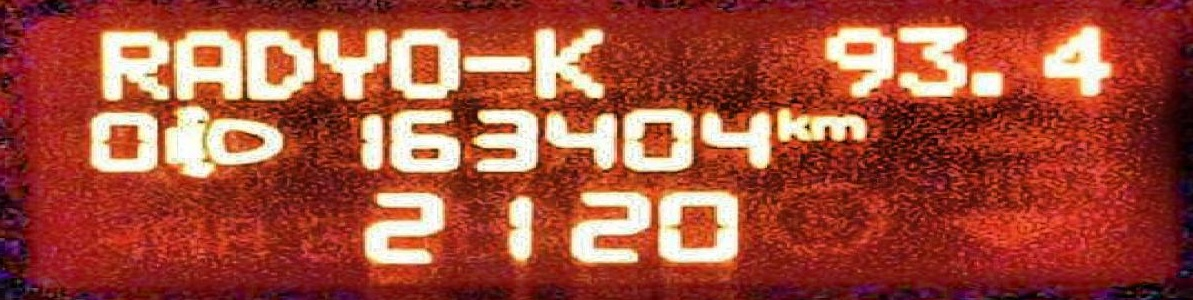-: (971, 66, 1004, 99)
0: (653, 187, 740, 267), (76, 105, 162, 175), (620, 104, 695, 173)
1: (487, 186, 545, 265), (342, 106, 387, 171)
2: (351, 185, 453, 268), (558, 185, 647, 266)
3: (895, 21, 969, 100), (464, 102, 538, 175)
4: (1031, 21, 1120, 99), (693, 104, 771, 171), (542, 105, 618, 171)
6: (385, 105, 463, 175)
9: (809, 21, 895, 99)
X: (527, 23, 613, 99), (87, 24, 167, 104), (169, 26, 244, 104), (240, 24, 315, 101), (313, 25, 387, 101), (393, 24, 462, 101), (458, 51, 529, 79), (811, 112, 867, 142), (776, 104, 811, 143)
